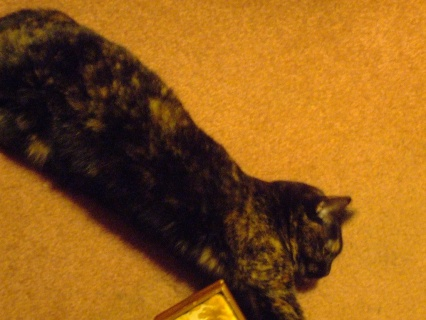Cat: (0, 6, 350, 319)
